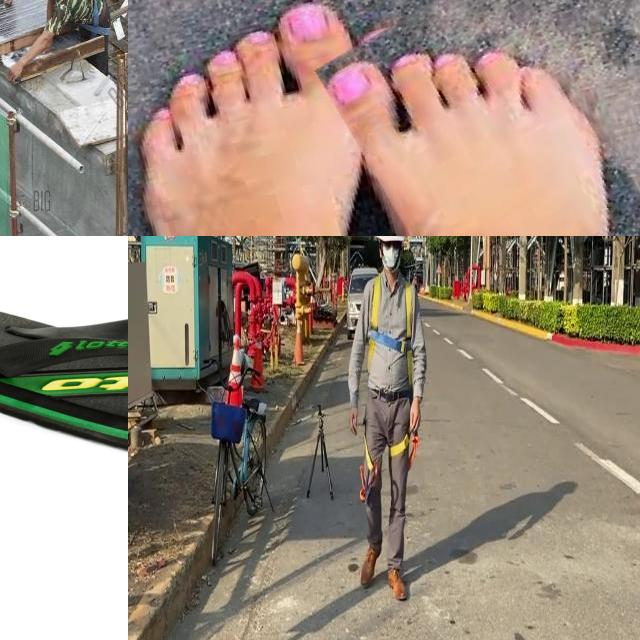Barefoots: (128, 0, 446, 236), (326, 0, 640, 236)
Harness: (369, 276, 413, 386), (49, 0, 116, 41)
Sandals: (0, 302, 128, 466)
